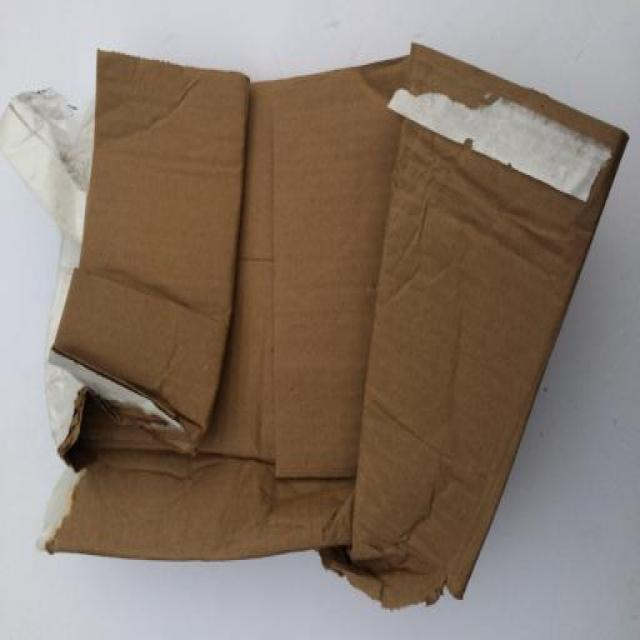cardboard: (62, 44, 625, 609)
